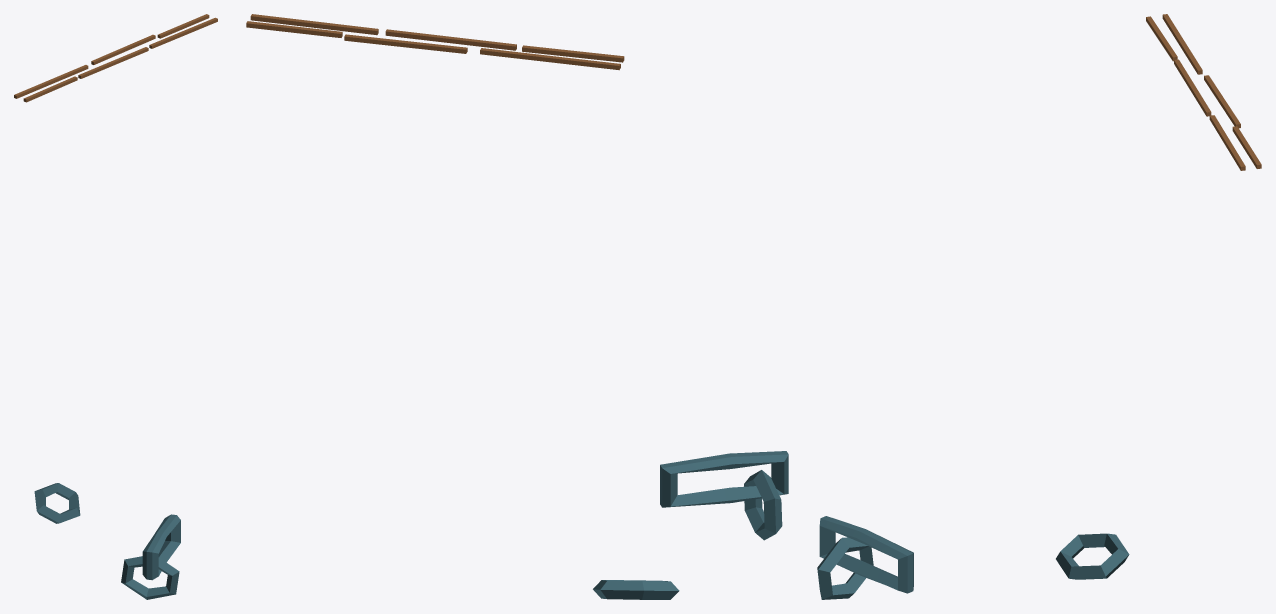
3 renders of one model, left to right at view 1: azimuth 30°, elevation 25°; view 2: azimuth 150°, elevation 25°; view 3: azimuth 270°, elevation 25°, orthographic. The views are drawn at different scales.
Visible parts, largest first — view 1: Plane065_brown_0, Torus042_metal_0, Torus032_metal_0, Torus040_metal_0; view 2: Plane065_brown_0, Torus042_metal_0, Torus032_metal_0, Torus040_metal_0; view 3: Torus042_metal_0, Plane065_brown_0, Torus040_metal_0, Torus032_metal_0.
Boxes of the visible parts, left/top/right/bottom form: Plane065_brown_0: left=14, top=14, right=217, bottom=102; Torus042_metal_0: left=142, top=514, right=180, bottom=580; Torus032_metal_0: left=121, top=556, right=179, bottom=599; Torus040_metal_0: left=34, top=483, right=80, bottom=523; Plane065_brown_0: left=246, top=14, right=624, bottom=70; Torus042_metal_0: left=660, top=451, right=788, bottom=507; Torus032_metal_0: left=744, top=470, right=782, bottom=540; Torus040_metal_0: left=593, top=580, right=679, bottom=599; Torus042_metal_0: left=819, top=516, right=913, bottom=593; Plane065_brown_0: left=1146, top=14, right=1261, bottom=170; Torus040_metal_0: left=1056, top=533, right=1129, bottom=579; Torus032_metal_0: left=817, top=537, right=873, bottom=599.
Bounding box in the file's own units: 1707 × 2865 × 2011.
